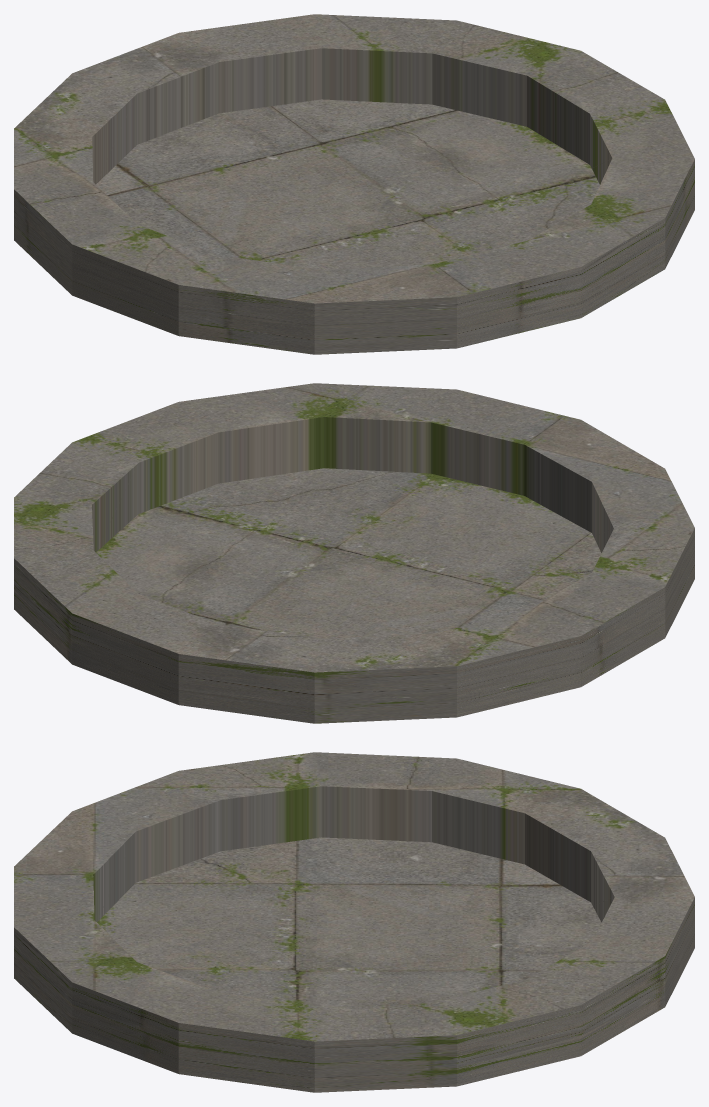
File: murettoAlbero.fbx
3 renders of one model, top to bottom at view 1: azimuth 30°, elevation 25°; view 2: azimuth 150°, elevation 25°; view 3: azimuth 270°, elevation 25°, orthographic.
Parts seen in each view (by area): view 1: muraAlbero; view 2: muraAlbero; view 3: muraAlbero.
Boxes of the visible parts, x1,y1,x2,y2 form: muraAlbero: (14,14,694,354); muraAlbero: (14,383,694,723); muraAlbero: (14,752,694,1092).
Bounding box in the file's own units: 580 × 52.06 × 577.
